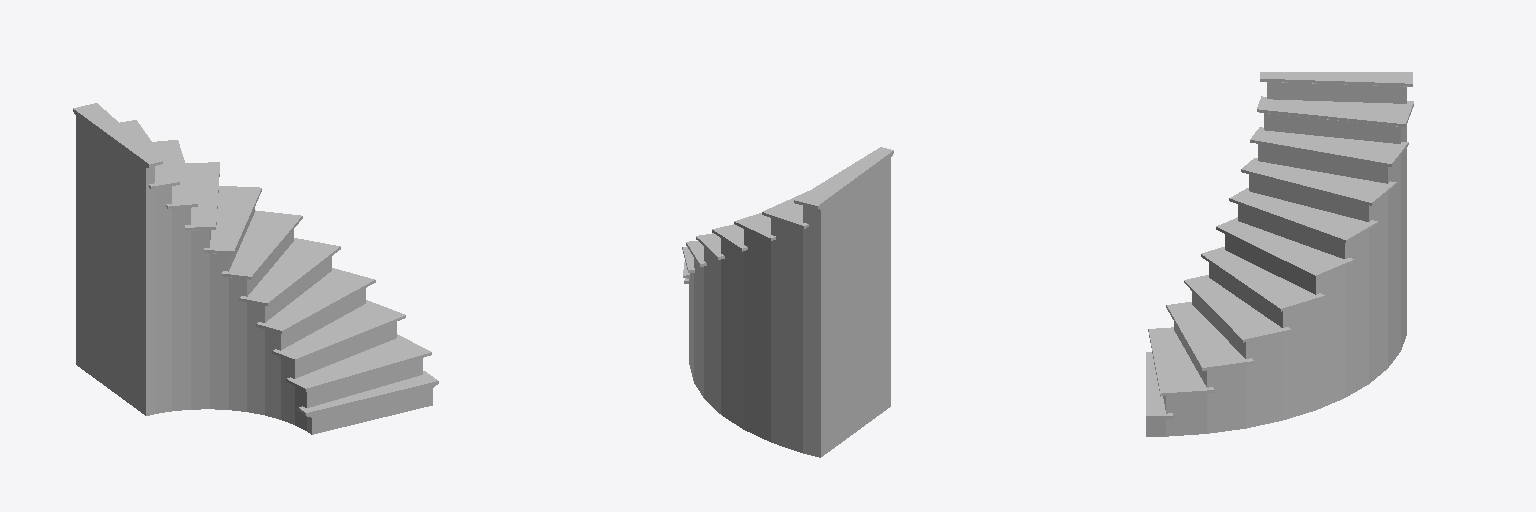
Rendered from Structure_Stairs_Curved.obj.
The picture shows the model from 3 angles: view 1: azimuth 30°, elevation 25°; view 2: azimuth 150°, elevation 25°; view 3: azimuth 270°, elevation 25°; orthographic projection.
Visible parts, largest first — view 1: object1; view 2: object1; view 3: object1.
Boxes of the visible parts, box(x1,y1,x2,y2) form: object1: box(73, 103, 438, 434); object1: box(682, 147, 893, 457); object1: box(1146, 72, 1413, 436).
Size of the model in its own units: 2.11 by 2.2 by 2.11.